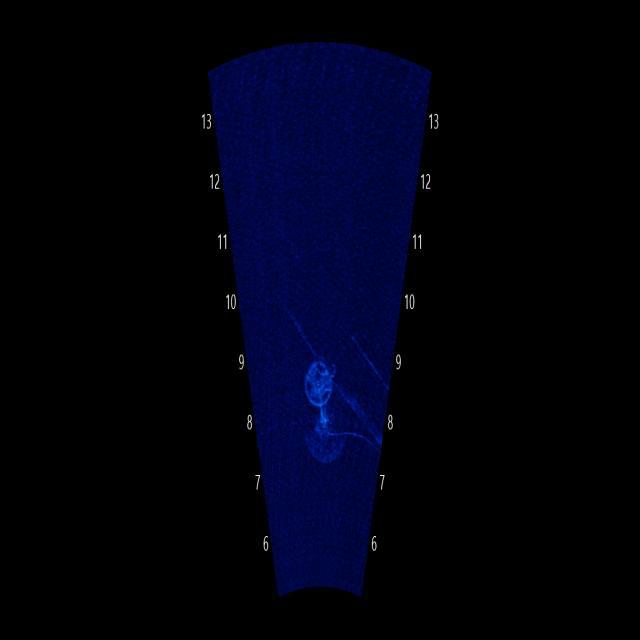circle: (299, 341, 345, 414)
